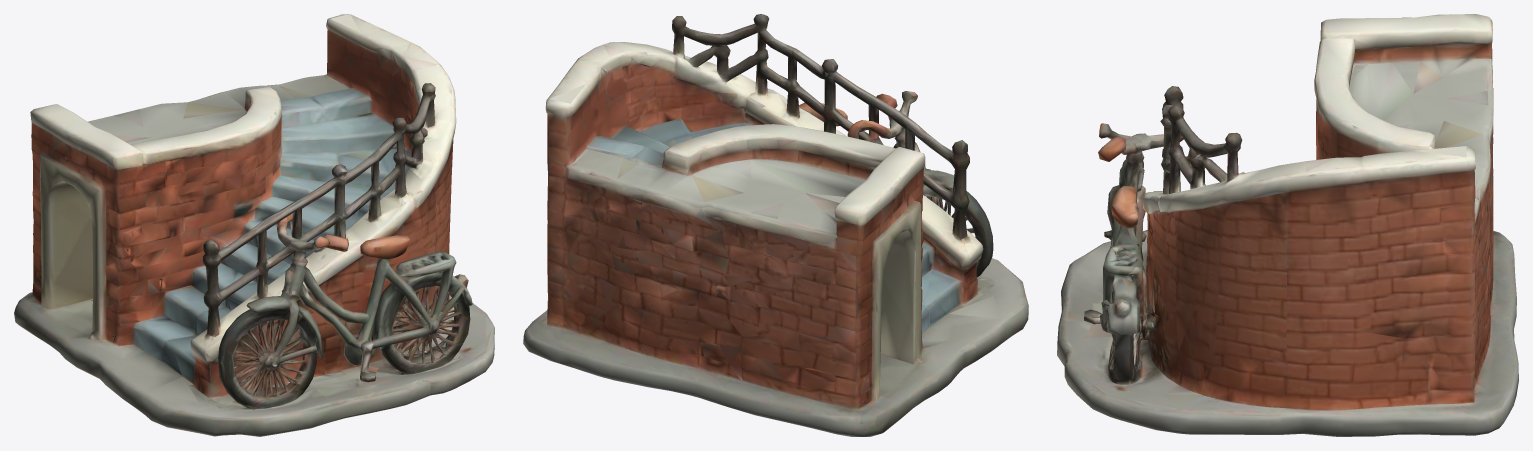
File: sc-alley-stairs.glb
3 views of the same model, side by side, from view 1: azimuth 30°, elevation 25°; view 2: azimuth 150°, elevation 25°; view 3: azimuth 270°, elevation 25° (orthographic). The views are drawn at different scales.
Visible parts, largest first — view 1: geometry_0; view 2: geometry_0; view 3: geometry_0.
Boxes of the visible parts, left/top/right/bottom form: geometry_0: left=14, top=14, right=494, bottom=436; geometry_0: left=523, top=14, right=1028, bottom=436; geometry_0: left=1057, top=14, right=1518, bottom=436.
Bounding box in the file's own units: 1 × 0.6903 × 0.9964.
1 material, 1 textured.
